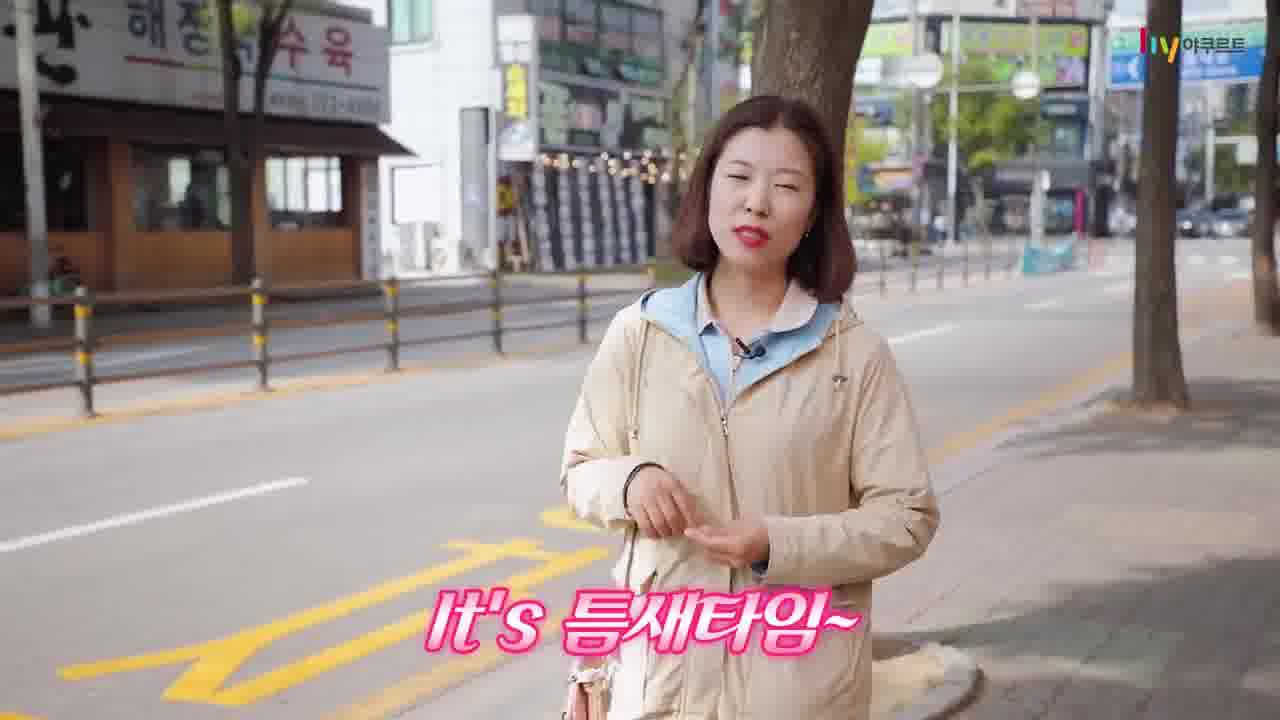Yakurut: (562, 78, 954, 720)
